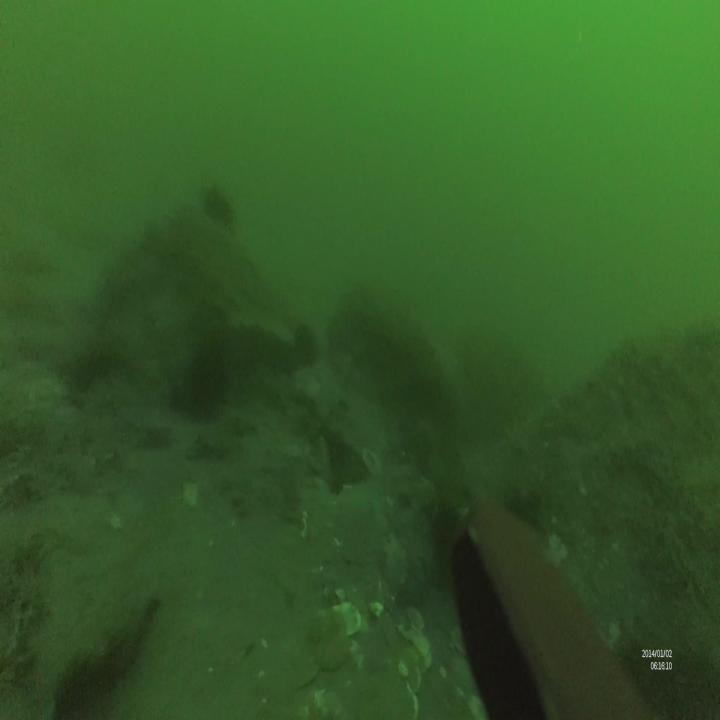echinus: (190, 343, 227, 414), (202, 182, 237, 227), (507, 487, 538, 524), (324, 426, 349, 468), (294, 323, 318, 365)
